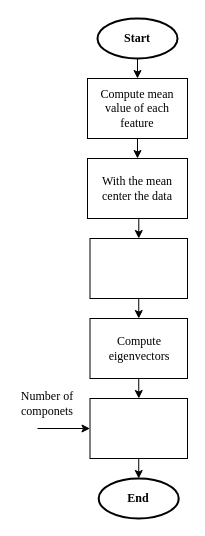
Some shapes in this 205 by 536 pixel diagram are drawn without their labels. Here are the shapes that lost their labels. From the top down, the centre of each, then its label:
At [138,268]: "Compute covariance matrix".
At [138,428]: "Extract main components".
